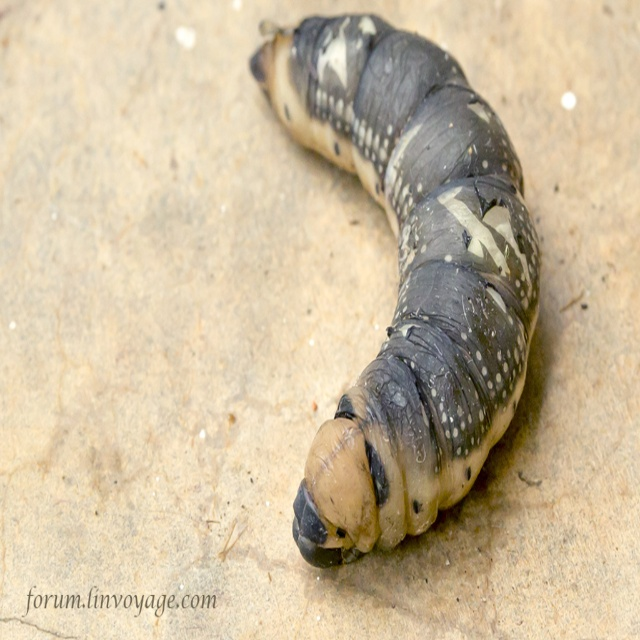Caterpillar: (247, 12, 542, 570)
